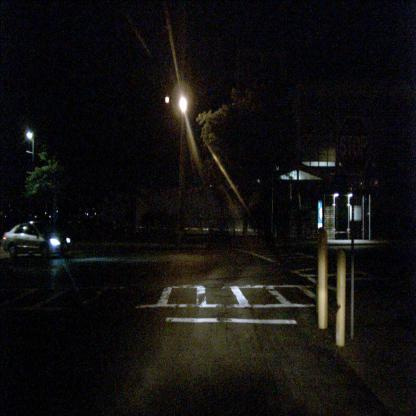vehicle-car: (2, 221, 71, 259)
